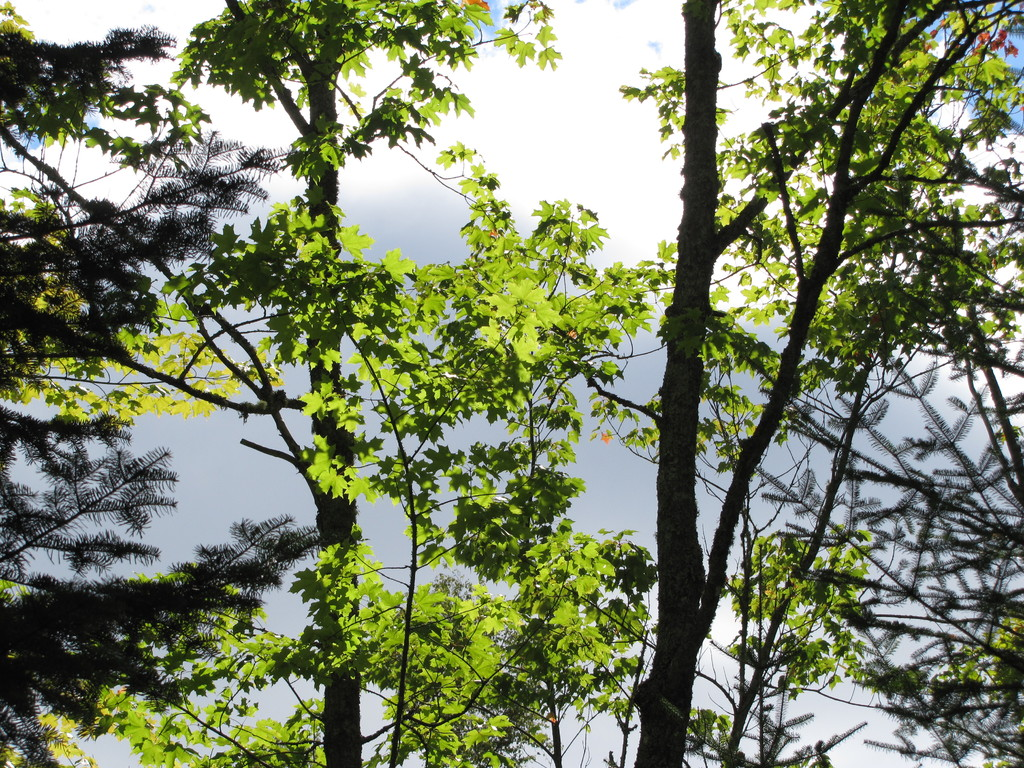Tree: (14, 15, 981, 768)
